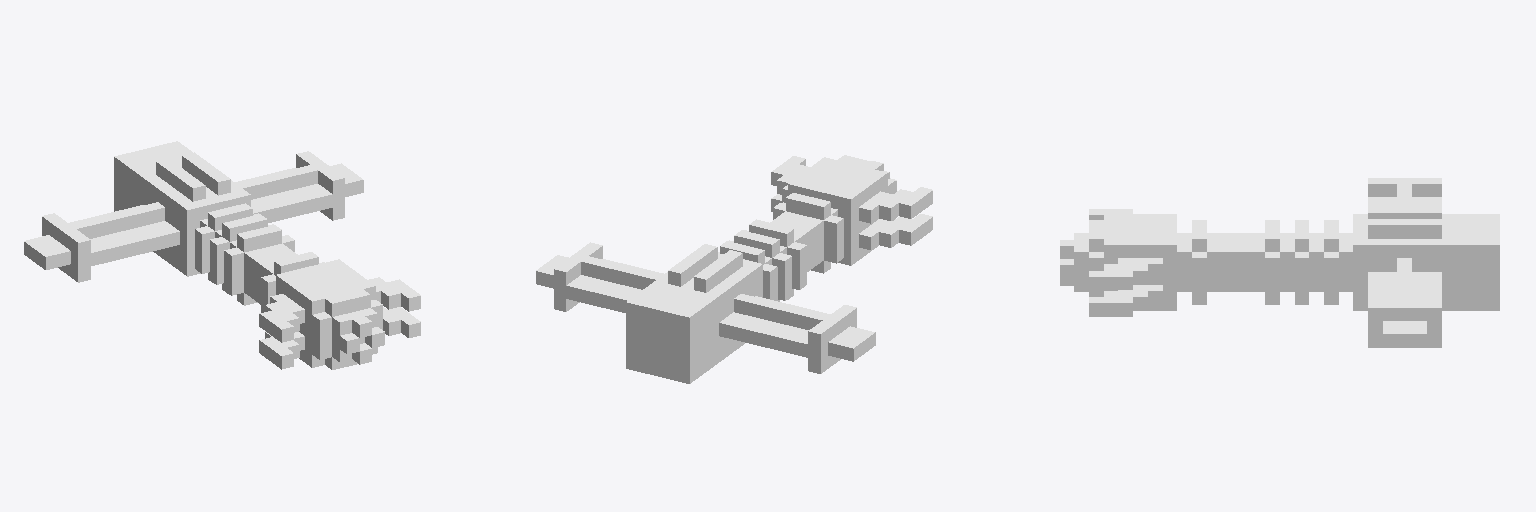
Rendered from Enemy2.3.obj.
3 renders of one model, left to right at view 1: azimuth 30°, elevation 25°; view 2: azimuth 150°, elevation 25°; view 3: azimuth 270°, elevation 25°, orthographic.
Size of the model in its own units: 25 by 6 by 30.